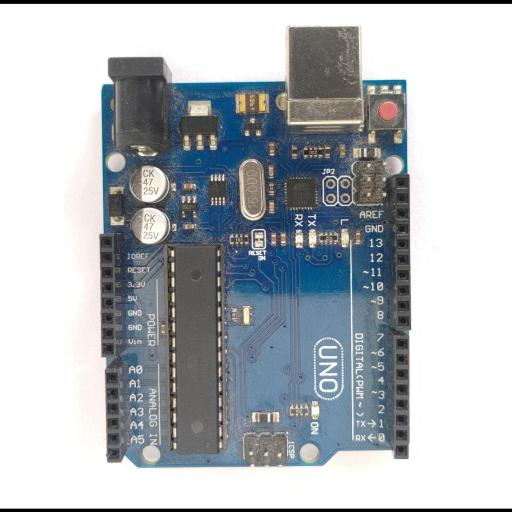Arduino Uno R3: (98, 28, 413, 468)
